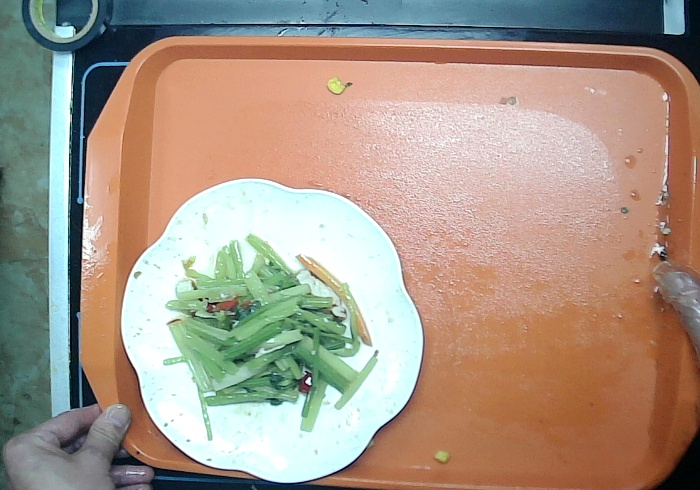HZYJPL-Bai_Se_Hua_Duo_Wan: (113, 174, 428, 488)
